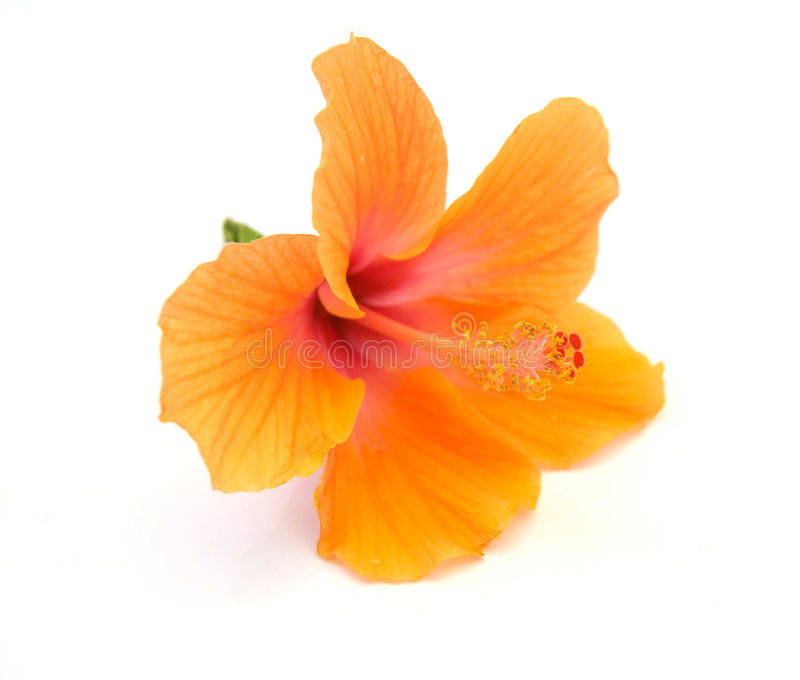Hibiscus: (146, 17, 671, 608)
